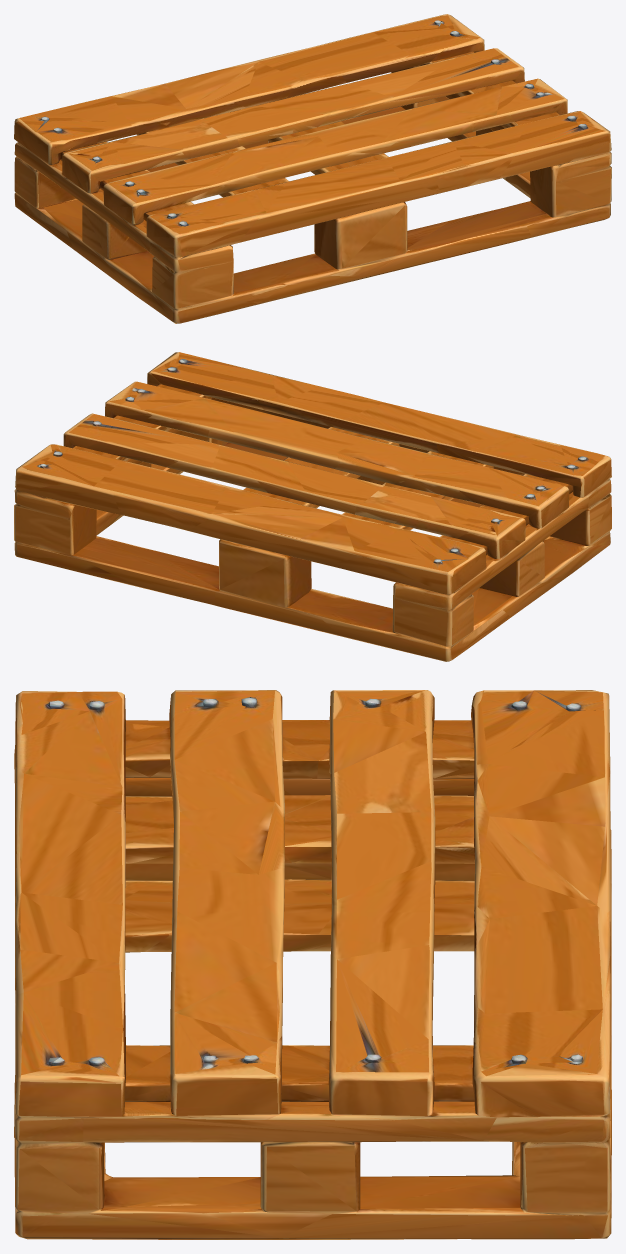
Rendered from pallet.glb.
3 views of the same model, one above another, from view 1: azimuth 30°, elevation 25°; view 2: azimuth 150°, elevation 25°; view 3: azimuth 270°, elevation 25° (orthographic). The views are drawn at different scales.
Visible parts, largest first — view 1: pallet; view 2: pallet; view 3: pallet.
Part boxes in pixels (<box>): pallet: <box>14,14,611,323</box>; pallet: <box>14,352,611,661</box>; pallet: <box>14,690,611,1239</box>.
Size of the model in its own units: 0.9982 by 0.2006 by 0.645.
1 material, 1 textured.
